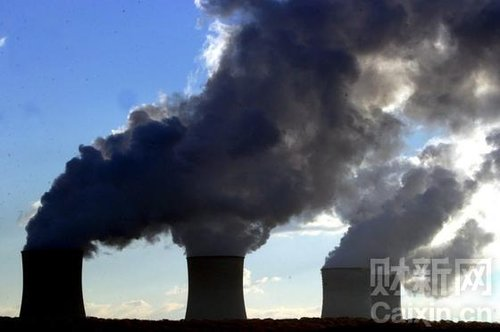dust: (154, 118, 281, 256), (314, 174, 475, 279), (16, 160, 147, 266)
